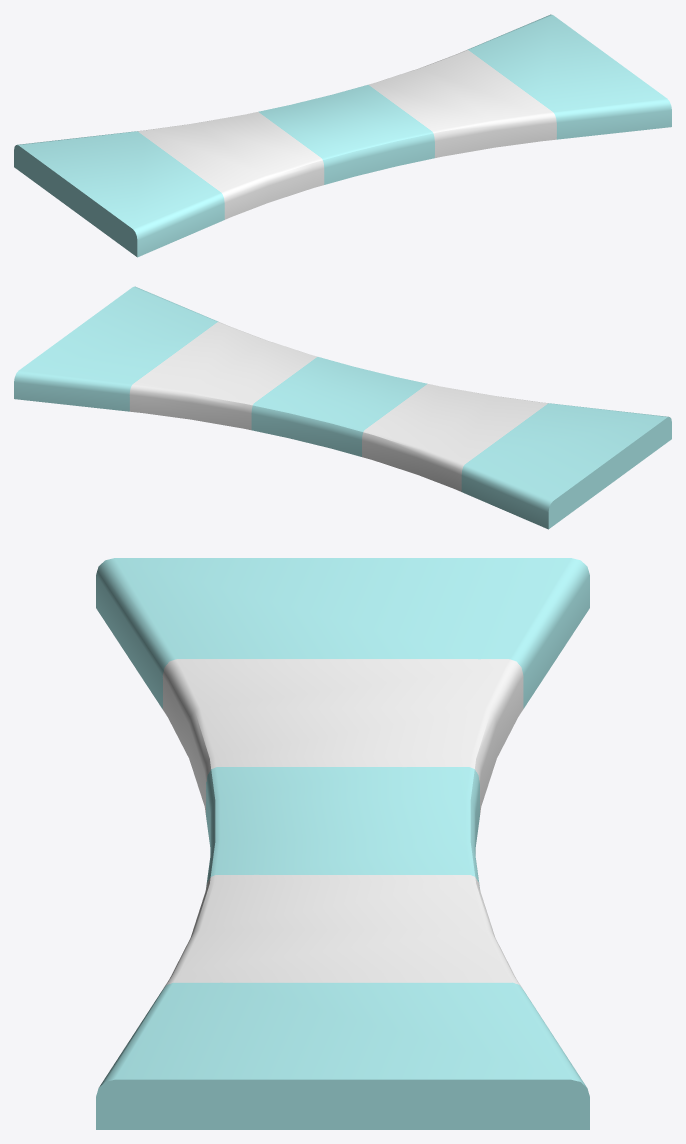
The model's file is RoadNarrow_blue.fbx.
3 views of the same model, one above another, from view 1: azimuth 30°, elevation 25°; view 2: azimuth 150°, elevation 25°; view 3: azimuth 270°, elevation 25° (orthographic). The views are drawn at different scales.
Visible parts, largest first — view 1: RoadNarrow; view 2: RoadNarrow; view 3: RoadNarrow.
Boxes of the visible parts, x1,y1,x2,y2 form: RoadNarrow: (14, 14, 671, 257); RoadNarrow: (14, 286, 671, 529); RoadNarrow: (96, 558, 589, 1129).
Bounding box in the file's own units: 750 × 33.61 × 300.
Materials: 1 (1 with a texture image).
